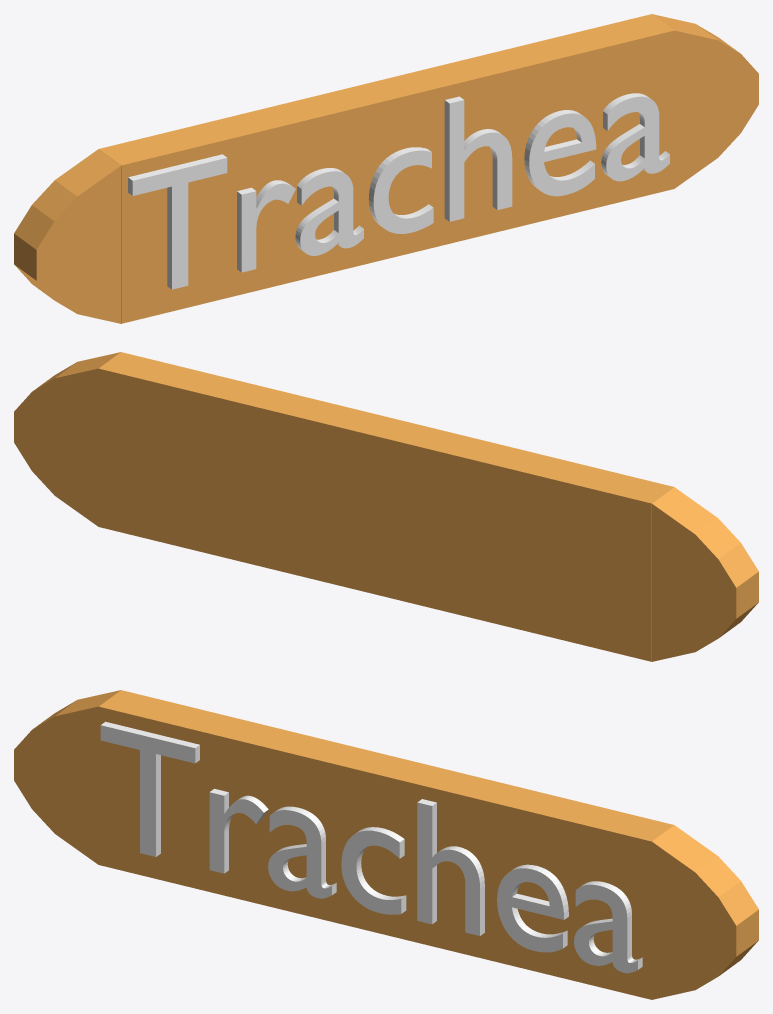
The model's file is TxtTRACHEA.fbx.
The picture shows the model from 3 angles, top to bottom: view 1: azimuth 30°, elevation 25°; view 2: azimuth 150°, elevation 25°; view 3: azimuth 330°, elevation 25°; orthographic projection.
Parts seen in each view (by area): view 1: TagContainer.044, Text.039; view 2: TagContainer.044; view 3: TagContainer.044, Text.039.
Boxes of the visible parts, x1=… form: TagContainer.044: x1=14, y1=14, x2=758, y2=323; Text.039: x1=128, y1=93, x2=669, y2=289; TagContainer.044: x1=14, y1=352, x2=758, y2=661; TagContainer.044: x1=14, y1=690, x2=758, y2=999; Text.039: x1=100, y1=721, x2=642, y2=973.
Size of the model in its own units: 197 by 41.3 by 12.93.
